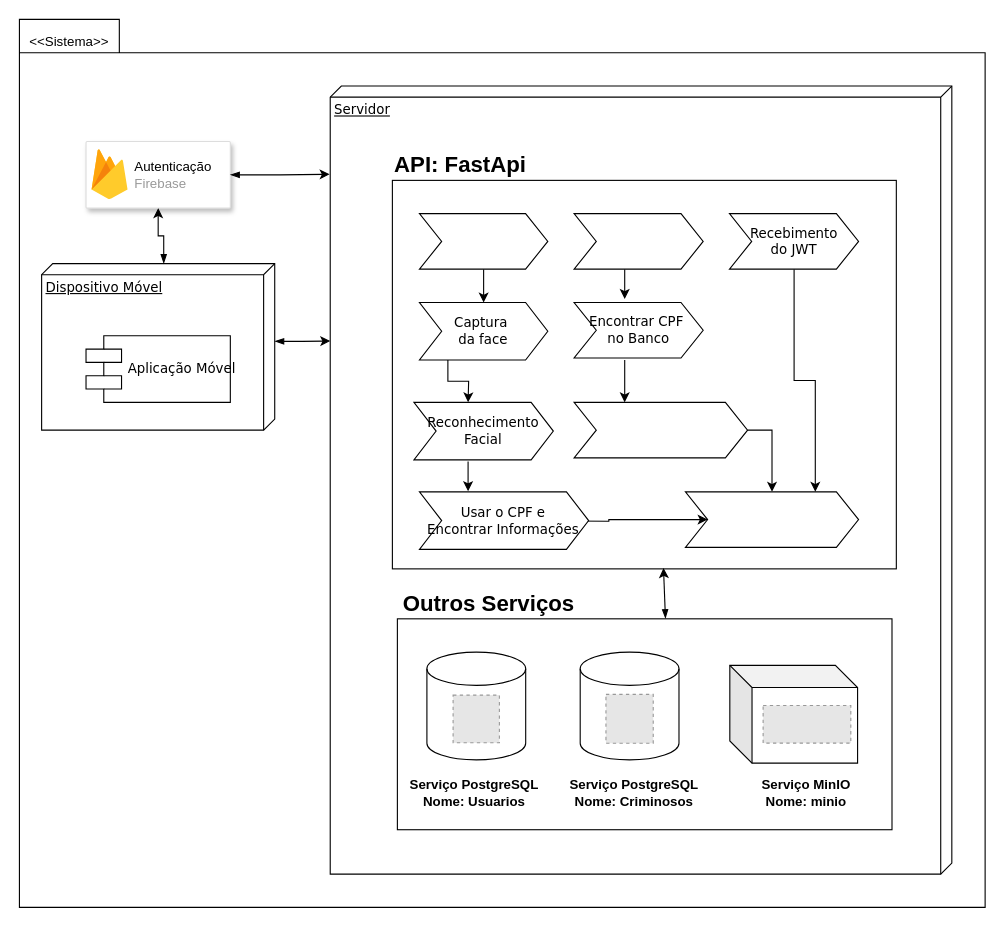
This 1005x927 diagram has some shape labels left out. Grey dashed boxes stand in for pictures. The centre of each missing label's shape, as x and y in pixels:
"Encontrar Informações em relação ao CPF" goes at (x=660, y=429).
"Recebimento da Foto" goes at (x=483, y=241).
"Recebimento do CPF" goes at (x=638, y=241).
"Retornar Informações para o Aplicativo" goes at (x=771, y=519).
